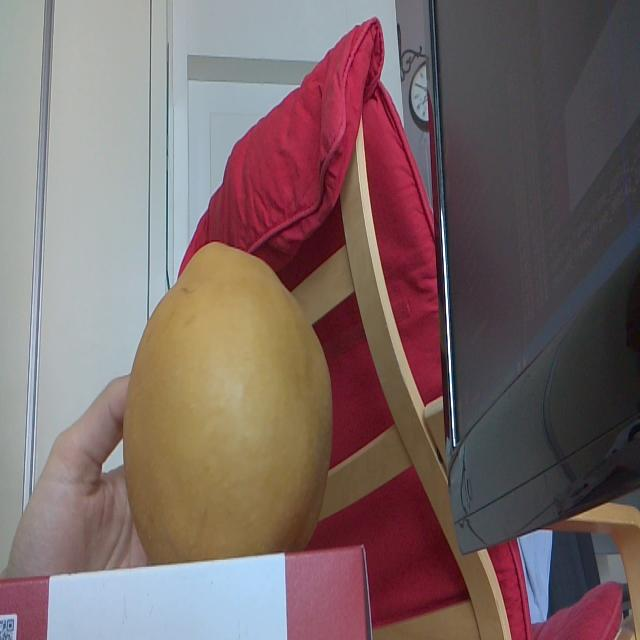pear: (122, 239, 331, 550)
